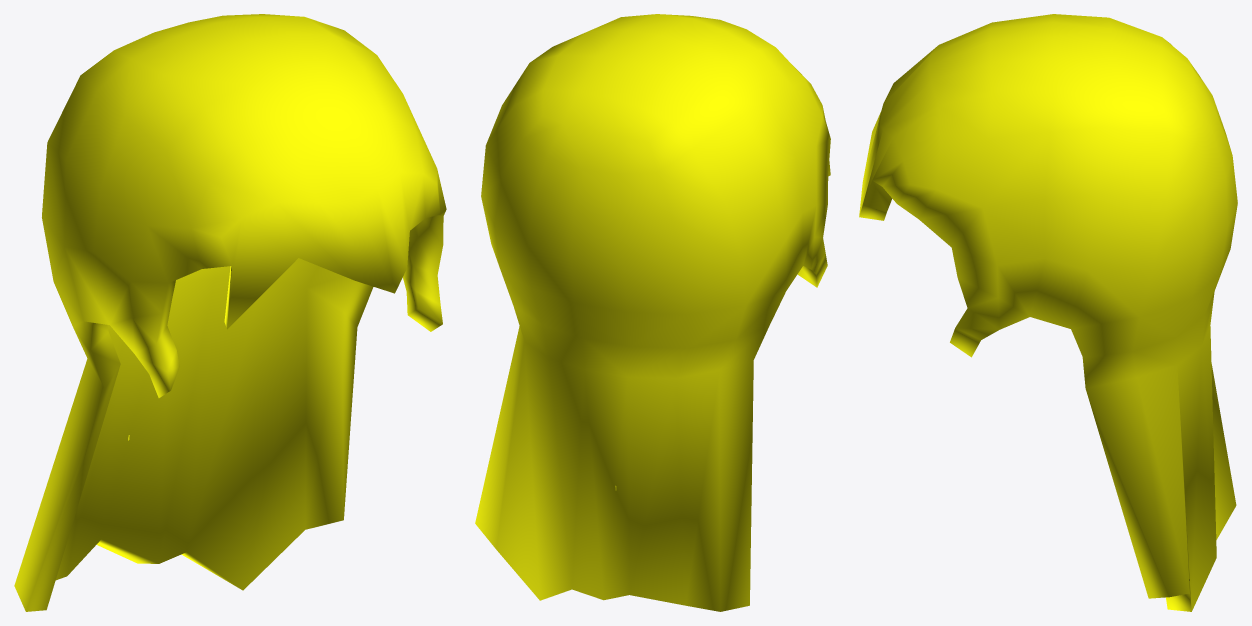
Rendered from character hair.fbx.
3 renders of one model, left to right at view 1: azimuth 30°, elevation 25°; view 2: azimuth 150°, elevation 25°; view 3: azimuth 270°, elevation 25°, orthographic. The views are drawn at different scales.
Parts seen in each view (by area): view 1: body_cut.012; view 2: body_cut.012; view 3: body_cut.012.
Part boxes in pixels (x1,y1,x2,y2): body_cut.012: (14, 14, 446, 611); body_cut.012: (475, 14, 830, 611); body_cut.012: (859, 14, 1237, 611).
Size of the model in its own units: 151 by 267 by 167.
